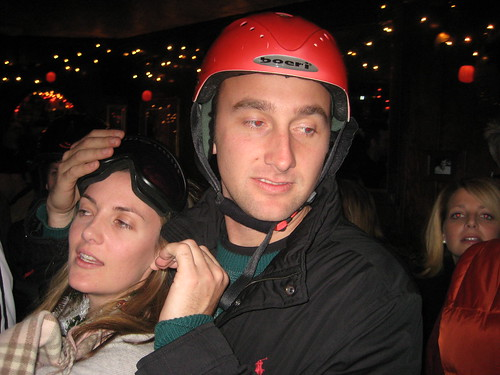helmet: (184, 7, 366, 95)
